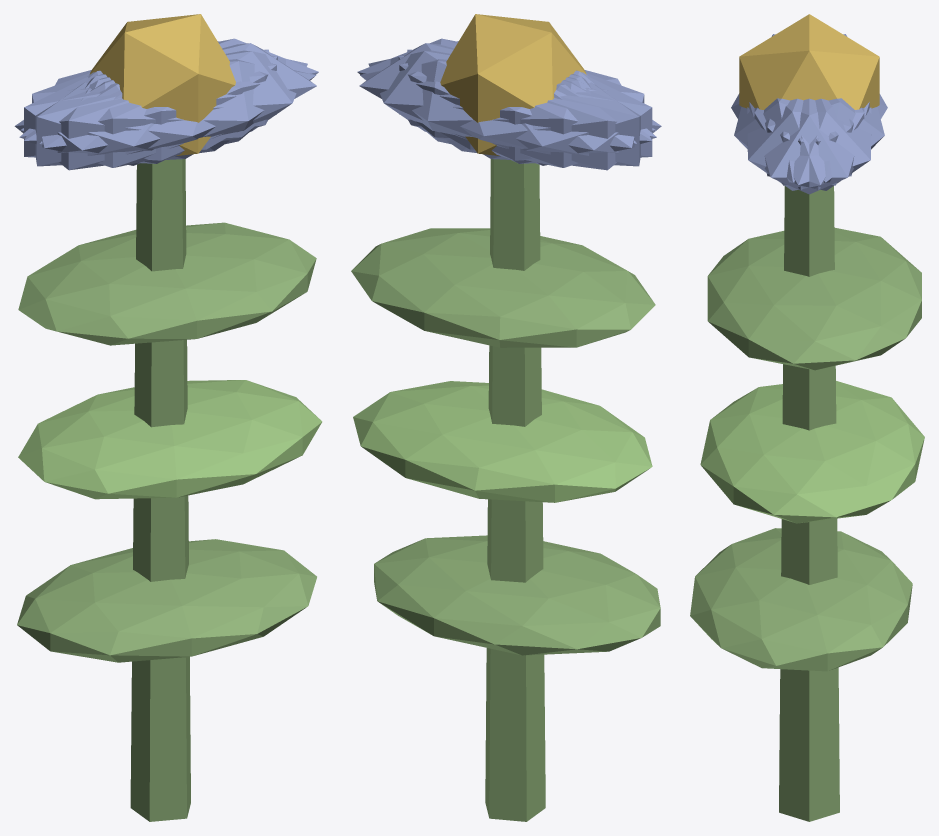
The model's file is ficus-maclellandii.glb.
The picture shows the model from 3 angles, left to right: view 1: azimuth 30°, elevation 25°; view 2: azimuth 150°, elevation 25°; view 3: azimuth 270°, elevation 25°; orthographic projection.
Visible parts, largest first — view 1: leaf0, leaf1, leaf2, stem, center, petal1, petal6, petal2, petal5, petal7, petal0, petal4 (+2 smaller); view 2: leaf2, leaf1, leaf0, stem, center, petal8, petal3, petal7, petal4, petal2, petal0, petal5 (+2 smaller); view 3: leaf1, leaf2, leaf0, stem, center, petal0, petal5, petal4, petal1, petal8.
Part boxes in pixels (<box>): leaf0: <box>17,539,316,662</box>; leaf1: <box>18,380,322,499</box>; leaf2: <box>18,222,316,345</box>; stem: <box>130,159,190,821</box>; center: <box>89,14,235,155</box>; petal1: <box>19,59,316,167</box>; petal6: <box>14,72,229,170</box>; petal2: <box>35,49,269,166</box>; petal5: <box>39,50,307,160</box>; petal7: <box>24,56,277,163</box>; petal0: <box>89,43,316,150</box>; petal4: <box>20,38,318,141</box>; leaf2: <box>351,228,655,347</box>; leaf1: <box>353,381,652,502</box>; leaf0: <box>374,535,660,655</box>; stem: <box>485,159,545,821</box>; center: <box>440,14,586,155</box>; petal8: <box>360,59,656,167</box>; petal3: <box>447,72,661,170</box>; petal7: <box>407,49,640,166</box>; petal4: <box>368,50,636,160</box>; petal2: <box>398,56,652,163</box>; petal0: <box>359,43,586,150</box>; petal5: <box>357,38,655,140</box>; leaf1: <box>700,381,924,523</box>; leaf2: <box>707,228,921,370</box>; leaf0: <box>690,528,912,671</box>; stem: <box>779,186,839,821</box>; center: <box>739,14,879,109</box>; petal0: <box>749,98,869,194</box>; petal5: <box>747,98,864,190</box>; petal4: <box>754,98,871,190</box>; petal1: <box>734,98,853,182</box>; petal8: <box>765,98,884,182</box>.
Size of the model in its own units: 0.1452 by 0.3733 by 0.1024.
